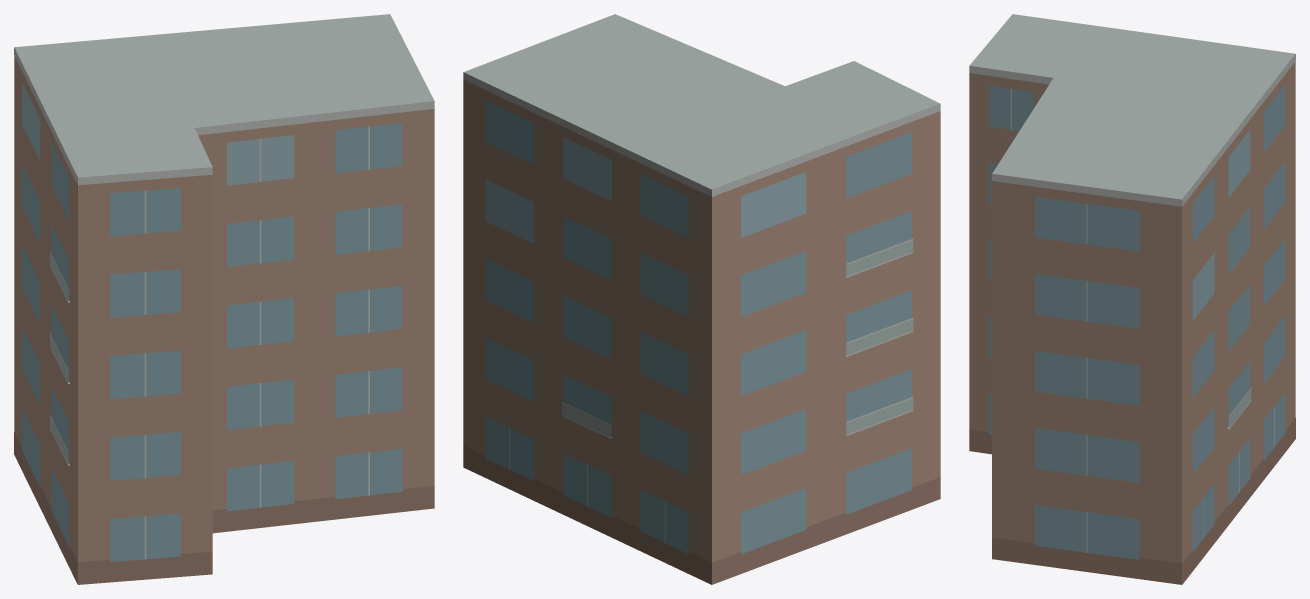
The model's file is survey-upis-32531059.glb.
3 renders of one model, left to right at view 1: azimuth 30°, elevation 25°; view 2: azimuth 150°, elevation 25°; view 3: azimuth 270°, elevation 25°, orthographic. The views are drawn at different scales.
Parts seen in each view (by area): view 1: survey-upis-32531059.tmp; view 2: survey-upis-32531059.tmp; view 3: survey-upis-32531059.tmp.
Part boxes in pixels (x1,y1,x2,y2): survey-upis-32531059.tmp: (14, 14, 434, 584); survey-upis-32531059.tmp: (463, 14, 940, 584); survey-upis-32531059.tmp: (969, 14, 1295, 584).
Size of the model in its own units: 13.54 by 13.1 by 10.07.
